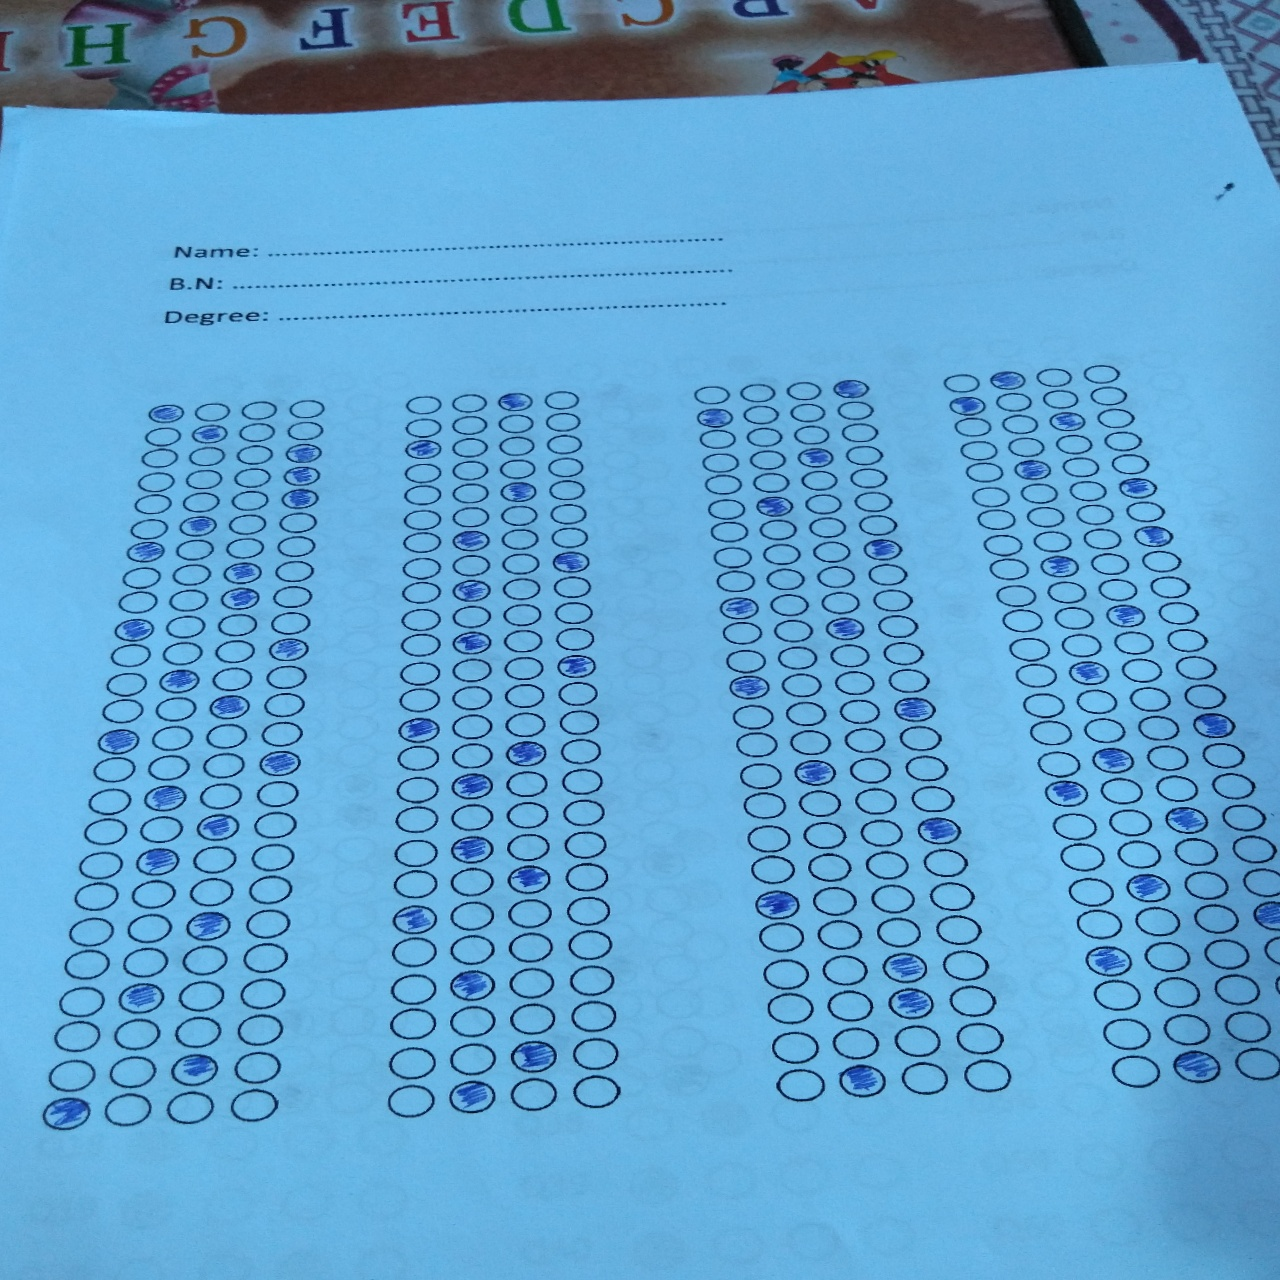not-c: (774, 1067, 828, 1105), (105, 1053, 158, 1091), (388, 1005, 440, 1043), (571, 1074, 622, 1112), (899, 1060, 951, 1098), (1109, 1053, 1160, 1091), (1151, 973, 1203, 1012), (1143, 938, 1194, 976), (818, 951, 870, 989), (813, 915, 865, 954), (934, 911, 986, 949), (164, 1089, 217, 1126), (570, 1035, 622, 1073), (1224, 1007, 1276, 1044), (1162, 1012, 1214, 1049), (829, 1024, 881, 1062), (1099, 1016, 1153, 1053), (384, 1083, 436, 1121), (567, 998, 619, 1035), (566, 964, 618, 1001), (955, 1021, 1007, 1058), (939, 947, 990, 985), (770, 1029, 822, 1067), (823, 987, 874, 1024), (927, 878, 979, 915), (46, 1058, 98, 1095), (386, 1046, 438, 1082), (387, 971, 440, 1007), (508, 1077, 560, 1114), (1203, 937, 1255, 973), (1073, 906, 1125, 942), (760, 956, 812, 993), (103, 1092, 155, 1129), (962, 1058, 1014, 1095), (948, 983, 1000, 1020), (1091, 976, 1143, 1013), (1212, 972, 1264, 1008), (893, 1022, 945, 1058), (756, 920, 808, 956), (448, 1041, 499, 1076), (763, 990, 815, 1026), (873, 914, 925, 949), (799, 818, 851, 853), (808, 884, 860, 918), (745, 853, 798, 887), (118, 944, 169, 979), (1233, 1046, 1280, 1083), (176, 978, 227, 1012), (867, 881, 919, 915), (743, 822, 795, 856), (241, 941, 291, 976), (54, 1019, 103, 1054), (233, 1050, 282, 1085), (178, 944, 229, 978), (229, 1088, 279, 1122), (447, 1005, 497, 1039), (921, 846, 972, 880), (243, 907, 294, 940), (66, 915, 117, 948), (862, 849, 913, 881), (1065, 876, 1117, 908), (501, 767, 550, 801), (57, 983, 107, 1017), (110, 1017, 159, 1051), (172, 1014, 222, 1048), (509, 1001, 558, 1035), (1182, 869, 1231, 903), (62, 948, 113, 981), (234, 1013, 285, 1046), (1227, 833, 1278, 866), (1172, 835, 1223, 867), (1132, 906, 1183, 939), (1191, 903, 1241, 935), (1104, 806, 1155, 839), (1219, 801, 1269, 833), (1207, 769, 1258, 802), (565, 927, 613, 961), (502, 799, 551, 832), (563, 896, 612, 928), (185, 876, 234, 908), (125, 911, 175, 944), (239, 978, 288, 1010), (805, 850, 855, 883), (1057, 842, 1107, 874), (795, 788, 844, 821), (1116, 838, 1166, 870), (1197, 738, 1247, 770), (449, 801, 497, 833), (561, 828, 610, 860), (559, 765, 607, 798), (561, 860, 610, 893), (506, 897, 554, 930), (389, 935, 437, 968), (506, 930, 554, 962), (508, 966, 556, 999), (503, 831, 552, 863), (560, 797, 610, 829), (556, 735, 605, 767), (447, 899, 496, 931), (449, 933, 498, 965), (248, 842, 298, 873), (191, 843, 240, 874), (76, 850, 125, 881), (250, 810, 300, 840), (1142, 742, 1192, 772), (448, 865, 496, 897), (1051, 809, 1099, 840), (246, 874, 295, 905), (1152, 772, 1201, 803), (1098, 775, 1148, 805), (908, 783, 958, 813), (736, 762, 785, 792), (1034, 749, 1083, 779), (449, 740, 497, 770), (392, 869, 440, 899), (196, 779, 244, 810), (73, 879, 121, 910), (855, 787, 903, 817), (741, 790, 789, 821), (729, 703, 777, 734), (723, 645, 771, 675), (144, 753, 193, 782), (856, 818, 905, 847), (731, 730, 781, 760), (82, 816, 129, 846), (448, 712, 496, 741), (393, 805, 441, 835), (200, 751, 248, 781), (136, 815, 184, 844), (129, 879, 177, 908), (846, 756, 894, 785), (395, 743, 442, 772), (393, 774, 440, 803), (393, 838, 440, 867), (253, 779, 300, 809), (90, 755, 137, 784), (86, 787, 132, 816), (150, 724, 198, 753), (259, 719, 305, 748), (719, 618, 765, 646), (825, 642, 872, 670), (897, 724, 944, 753), (903, 755, 949, 783), (1126, 685, 1173, 713), (108, 641, 154, 669), (211, 638, 257, 666), (396, 659, 442, 687), (210, 666, 256, 694), (152, 694, 198, 722), (775, 644, 821, 672), (778, 672, 824, 700), (788, 729, 833, 757), (843, 726, 888, 754), (838, 697, 884, 726), (886, 667, 932, 695), (874, 612, 920, 640), (1081, 716, 1126, 744), (1136, 714, 1182, 742), (1182, 682, 1227, 710), (1073, 689, 1118, 717), (1007, 634, 1053, 662), (1000, 605, 1046, 633), (994, 583, 1040, 611), (987, 556, 1033, 584), (501, 628, 547, 655), (501, 654, 547, 681), (553, 680, 600, 707), (556, 708, 602, 735), (503, 712, 550, 738), (263, 665, 309, 692), (100, 697, 147, 724), (259, 692, 306, 719), (204, 722, 248, 750), (783, 700, 828, 728), (881, 639, 926, 667), (1030, 719, 1075, 747), (1155, 599, 1199, 627), (159, 640, 205, 667), (397, 632, 443, 659), (552, 626, 598, 653), (449, 656, 495, 683), (397, 685, 443, 712), (452, 685, 498, 712), (501, 683, 546, 710), (103, 670, 149, 697), (768, 618, 813, 645), (1021, 692, 1067, 719), (1013, 663, 1058, 690), (1118, 658, 1164, 685), (1242, 867, 1280, 900), (1165, 626, 1208, 654), (447, 604, 493, 629), (550, 600, 597, 626), (832, 669, 877, 696), (818, 588, 863, 615), (1148, 574, 1192, 601), (1139, 549, 1184, 576), (1096, 576, 1141, 602), (166, 561, 212, 587), (499, 576, 545, 601), (499, 602, 545, 628), (115, 590, 161, 615), (870, 588, 915, 614), (765, 592, 811, 618), (1060, 632, 1105, 658), (1173, 654, 1217, 681), (715, 568, 758, 595), (397, 606, 444, 631), (268, 585, 315, 610), (165, 588, 212, 613), (215, 613, 261, 638), (401, 482, 445, 508), (1114, 629, 1158, 655), (1088, 551, 1132, 577), (1032, 527, 1074, 554), (271, 560, 316, 585), (399, 461, 444, 485), (399, 579, 444, 604), (162, 614, 207, 639), (267, 612, 313, 636), (1051, 605, 1097, 629), (1080, 525, 1123, 551), (815, 564, 858, 590), (400, 508, 444, 532), (448, 392, 492, 416), (550, 576, 594, 600), (836, 421, 880, 445), (982, 531, 1024, 557), (866, 561, 908, 587), (712, 544, 754, 570), (760, 542, 802, 567), (757, 518, 799, 544), (400, 557, 445, 580), (763, 566, 806, 591), (810, 540, 853, 565), (806, 515, 850, 539), (851, 490, 894, 515), (1075, 502, 1118, 526), (400, 532, 444, 556), (400, 416, 444, 440), (401, 392, 445, 415), (449, 482, 493, 505), (448, 553, 492, 577), (495, 457, 539, 481), (493, 435, 538, 458), (706, 520, 750, 544), (1060, 456, 1104, 479), (998, 414, 1042, 437), (951, 415, 995, 438), (1108, 452, 1152, 476), (1087, 384, 1131, 408), (1040, 388, 1084, 411), (787, 401, 831, 424), (781, 380, 825, 403), (173, 538, 217, 561), (120, 566, 163, 590), (498, 552, 542, 576), (542, 410, 585, 434), (542, 433, 585, 456), (543, 455, 586, 478), (547, 525, 591, 549), (974, 508, 1017, 531), (1123, 501, 1166, 524), (964, 461, 1007, 484), (1051, 433, 1095, 456), (940, 373, 983, 396), (1032, 366, 1075, 389), (833, 399, 877, 422), (696, 450, 740, 474), (744, 449, 788, 472), (696, 425, 740, 449), (736, 381, 779, 404), (447, 413, 491, 435), (448, 437, 492, 459), (448, 458, 492, 481), (704, 497, 749, 519), (802, 493, 846, 516), (956, 438, 1001, 461), (1094, 408, 1138, 430), (993, 390, 1037, 413), (749, 471, 794, 493), (741, 425, 785, 448), (789, 423, 833, 445), (229, 488, 271, 511), (134, 470, 176, 493), (1046, 580, 1088, 604), (1017, 481, 1060, 504), (449, 506, 492, 529), (498, 505, 542, 527), (493, 411, 537, 434), (1005, 435, 1048, 457), (1080, 363, 1123, 386), (842, 444, 885, 467), (846, 467, 890, 489), (797, 469, 840, 491), (701, 474, 744, 496), (692, 384, 735, 407), (139, 447, 181, 470), (224, 536, 265, 559), (275, 535, 316, 558), (225, 513, 267, 536), (128, 518, 170, 540), (499, 527, 542, 550), (540, 389, 583, 411), (546, 503, 588, 525), (855, 515, 899, 536), (1067, 479, 1111, 501), (971, 485, 1013, 508), (1103, 430, 1145, 452), (741, 404, 785, 425), (1023, 506, 1067, 527), (143, 425, 184, 448), (186, 445, 227, 468), (234, 443, 275, 465), (232, 467, 273, 489), (181, 491, 222, 513), (184, 468, 225, 490), (277, 512, 318, 535), (131, 493, 173, 515), (236, 422, 275, 444), (238, 400, 279, 421), (286, 399, 327, 420), (547, 479, 588, 501), (191, 401, 231, 422), (285, 421, 326, 441), (1262, 932, 1280, 971), (1273, 968, 1280, 1006)
taken-c: (38, 1094, 93, 1133), (444, 1077, 499, 1116), (506, 1037, 560, 1076), (444, 965, 498, 1003), (387, 903, 443, 939), (1080, 942, 1135, 979), (166, 1051, 220, 1088), (1119, 871, 1175, 906), (836, 1063, 888, 1099), (114, 981, 166, 1016), (1170, 1049, 1223, 1084), (878, 949, 930, 985), (885, 985, 937, 1020), (448, 835, 501, 869), (393, 713, 445, 747), (1160, 803, 1213, 837), (501, 735, 551, 770), (502, 863, 553, 897), (448, 769, 499, 803), (914, 813, 965, 847), (1041, 776, 1092, 809), (753, 888, 803, 921), (1088, 745, 1139, 777), (1065, 658, 1116, 689), (132, 846, 182, 878), (1191, 712, 1241, 742), (183, 910, 231, 941), (792, 757, 840, 789), (193, 811, 241, 842), (141, 783, 189, 812), (447, 628, 495, 658), (447, 577, 496, 605), (447, 527, 496, 556), (726, 673, 772, 702), (155, 667, 203, 695), (554, 652, 602, 680), (546, 549, 594, 577), (1129, 524, 1177, 552), (205, 692, 252, 720), (821, 614, 867, 642), (96, 726, 142, 754), (257, 750, 302, 778), (892, 695, 938, 723), (1037, 553, 1083, 581), (1012, 456, 1057, 484), (716, 595, 762, 622), (1104, 602, 1150, 629), (1115, 475, 1160, 502), (400, 440, 445, 465), (753, 493, 798, 519), (497, 481, 542, 506), (491, 390, 536, 416), (858, 537, 904, 561), (111, 617, 155, 642), (266, 636, 309, 662), (1250, 899, 1280, 935), (220, 560, 265, 585), (218, 586, 263, 611), (986, 369, 1030, 393), (176, 515, 219, 538), (1046, 410, 1089, 434), (945, 394, 988, 417), (695, 407, 736, 431), (797, 445, 837, 470), (144, 402, 188, 424), (190, 423, 233, 445), (831, 377, 874, 400), (279, 486, 320, 510), (280, 464, 321, 486), (125, 540, 166, 563), (282, 443, 325, 464)
